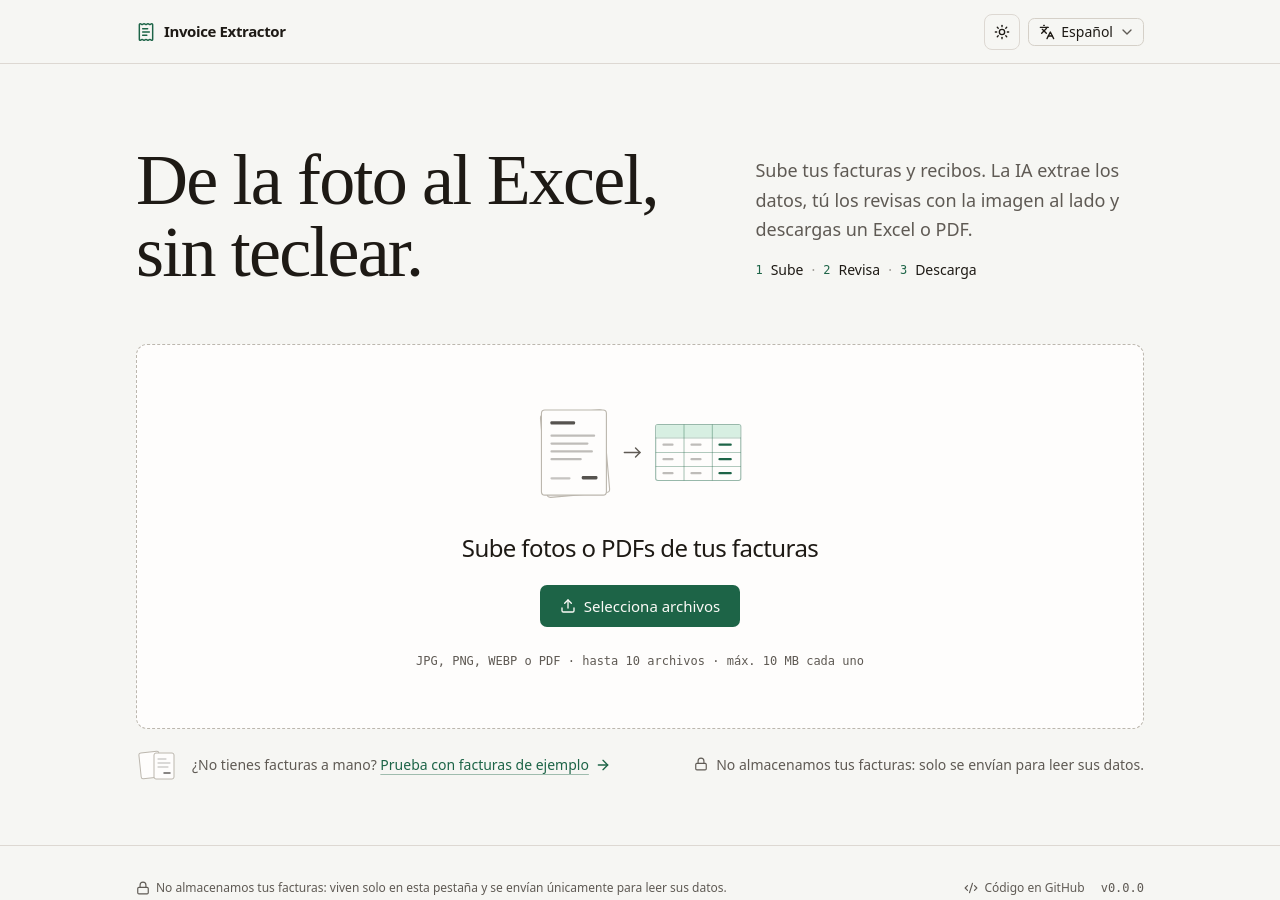
LanguageSwitcher › switches the interface language and remembers it
Click the dropdown named "Idioma": (1086, 32) left=1028, top=18, right=1144, bottom=46
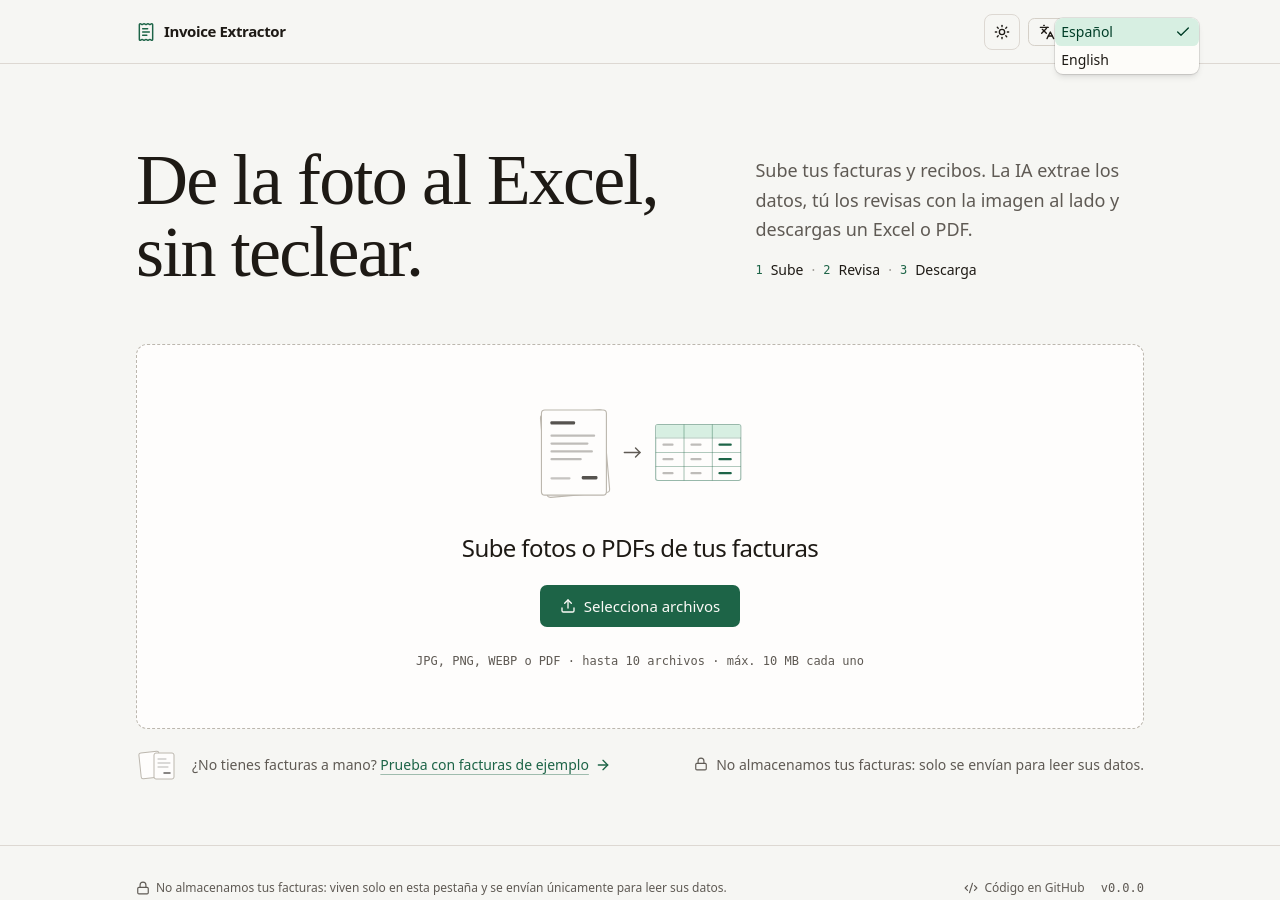
Click the option "English": (1085, 59) left=1061, top=50, right=1109, bottom=68
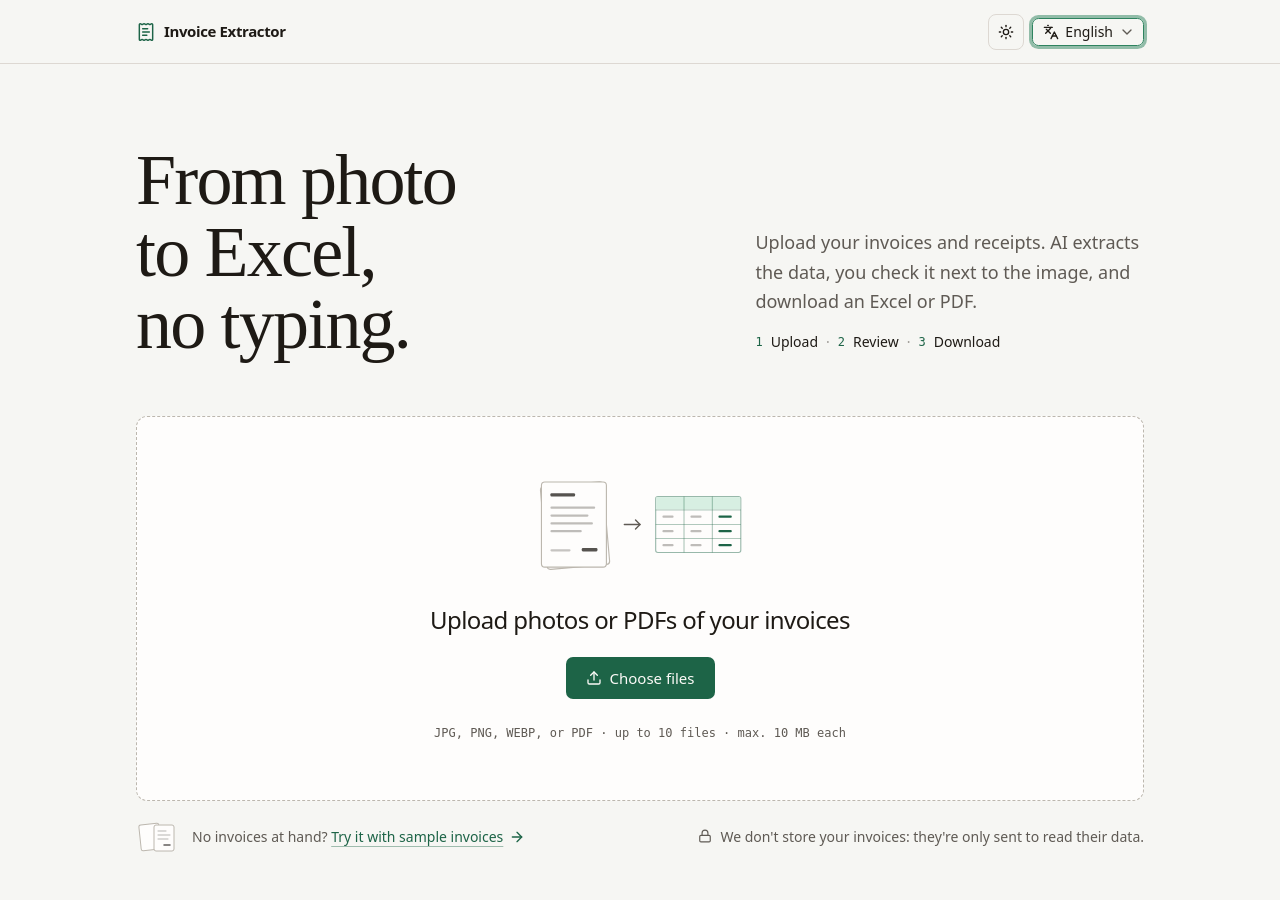
expect the dropdown named "Language" reads "English": met, box left=1032, top=18, right=1144, bottom=46
